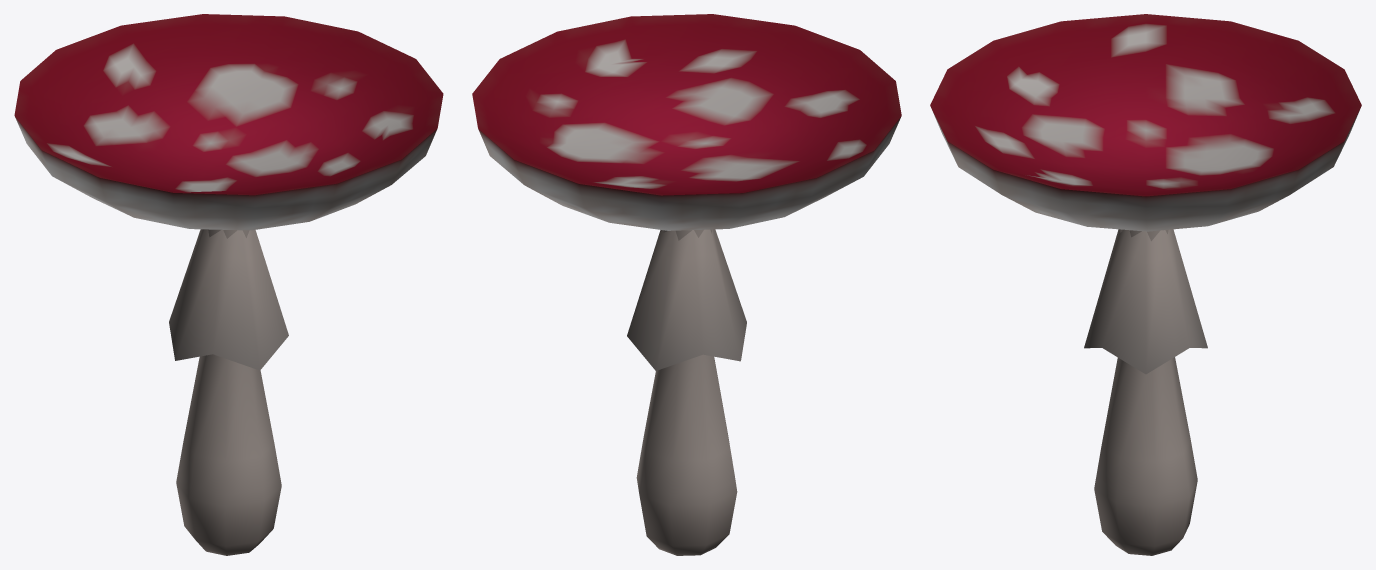
The model's file is prototype.glb.
3 views of the same model, side by side, from view 1: azimuth 30°, elevation 25°; view 2: azimuth 150°, elevation 25°; view 3: azimuth 270°, elevation 25° (orthographic).
Parts seen in each view (by area): view 1: Fly_Agaric_Big_baked; view 2: Fly_Agaric_Big_baked; view 3: Fly_Agaric_Big_baked.
Boxes of the visible parts, box(x1,y1,x2,y2) form: Fly_Agaric_Big_baked: box(14, 14, 443, 555); Fly_Agaric_Big_baked: box(472, 14, 901, 555); Fly_Agaric_Big_baked: box(930, 14, 1361, 555).
Bounding box in the file's own units: 0.8935 × 1 × 0.8935.
